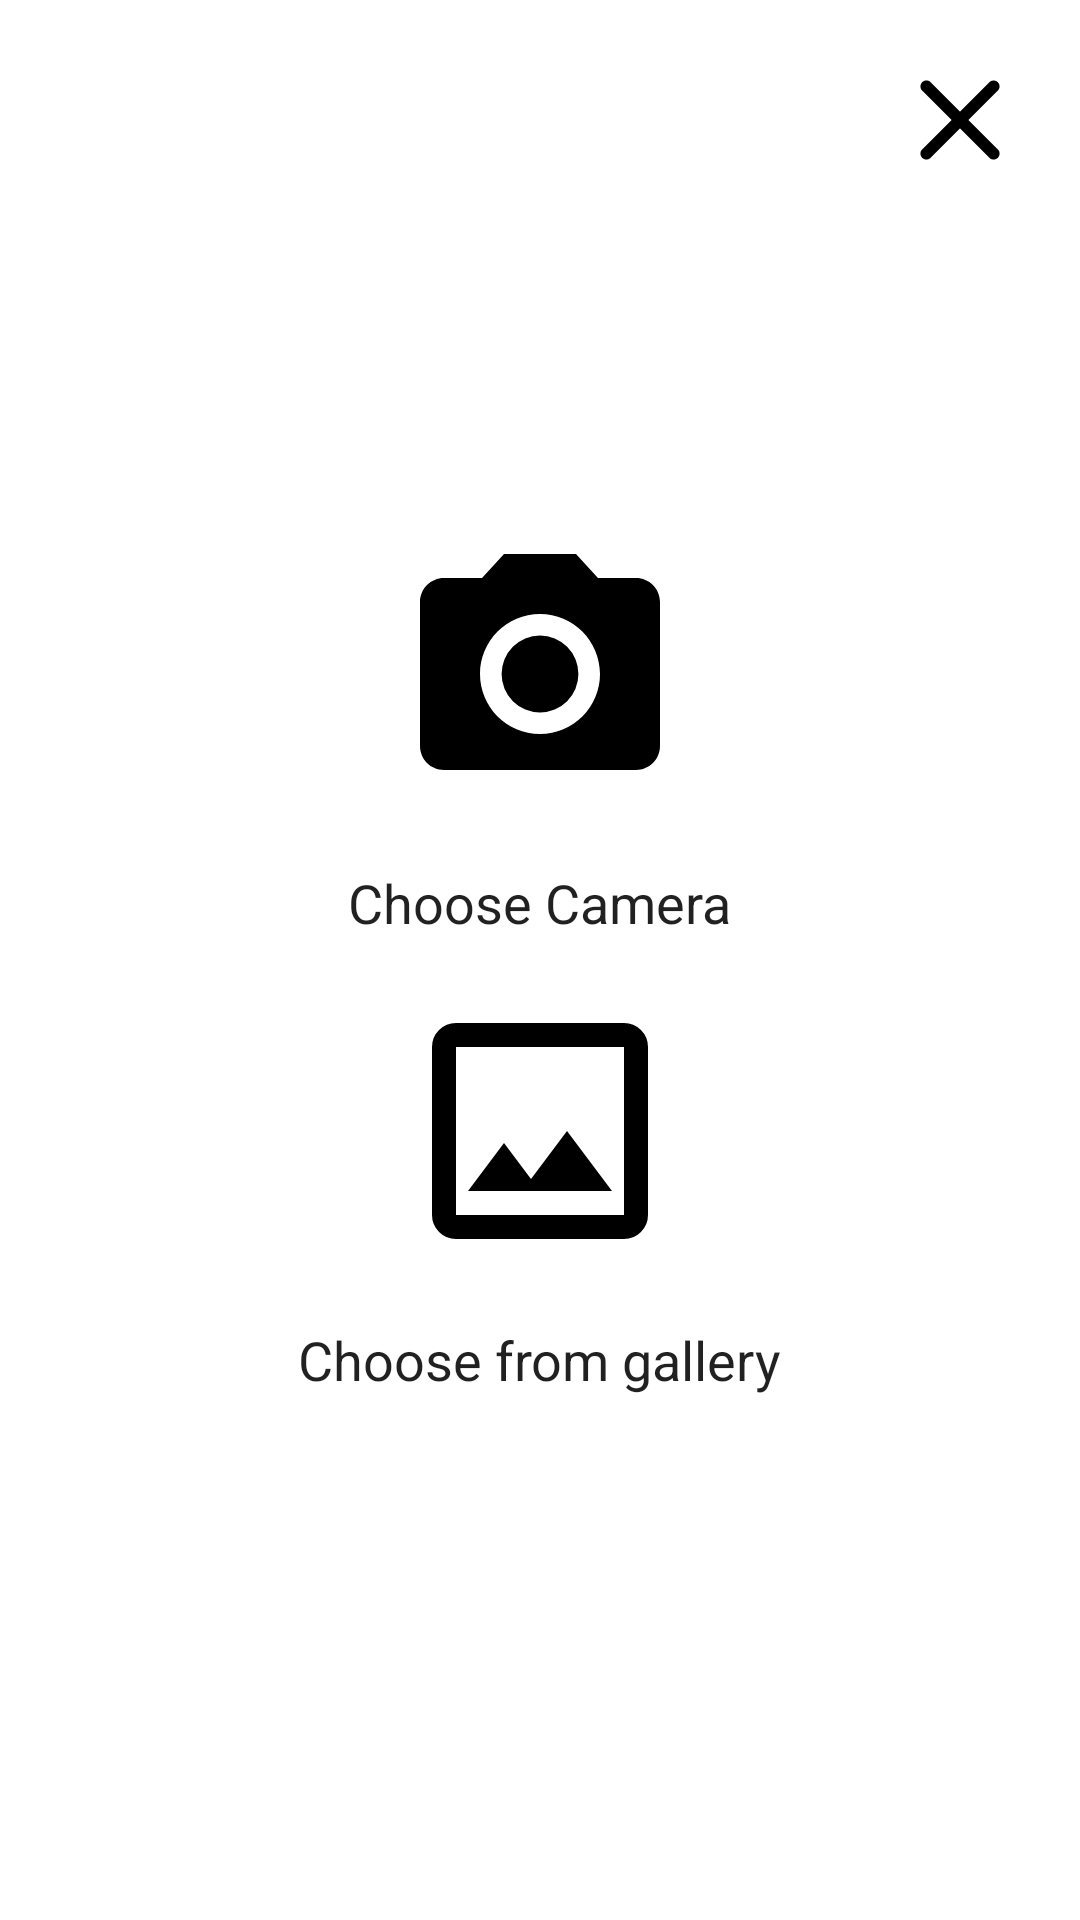

Named icons in this screenshot (1080w x 1920h) and their bounding boxes, box=[x1, y1, x2, y2]:
Close: box=[920, 80, 1000, 160]
